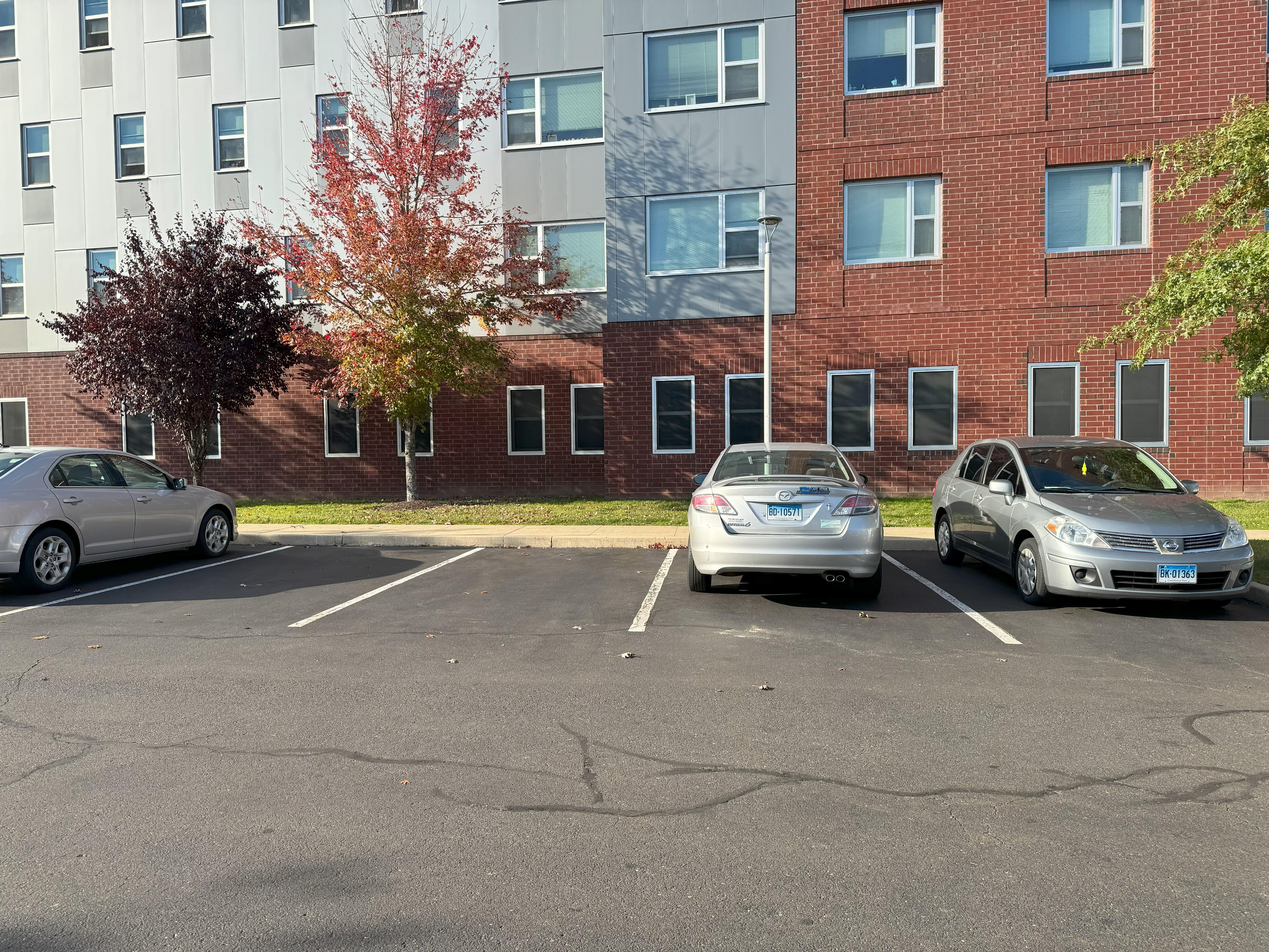empty: (431, 549, 636, 641), (198, 552, 382, 631)
occupied: (934, 423, 1262, 625), (678, 416, 914, 631), (5, 416, 198, 567)
